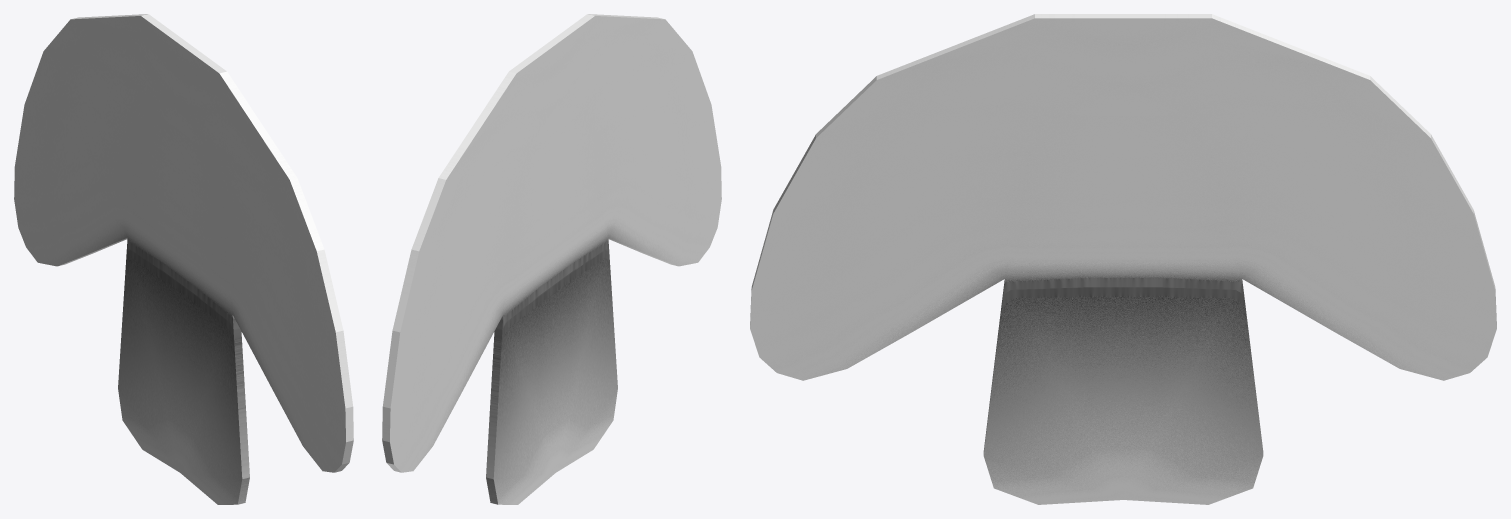
File: mushroom_cut.fbx
3 views of the same model, side by side, from view 1: azimuth 30°, elevation 25°; view 2: azimuth 150°, elevation 25°; view 3: azimuth 270°, elevation 25° (orthographic). The views are drawn at different scales.
Visible parts, largest first — view 1: Mushroom; view 2: Mushroom; view 3: Mushroom.
Part boxes in pixels (box(x1,y1,x2,y2)): Mushroom: box(14, 14, 353, 504); Mushroom: box(382, 14, 721, 504); Mushroom: box(750, 14, 1496, 504).
Bounding box in the file's own units: 2 × 107 × 148.
